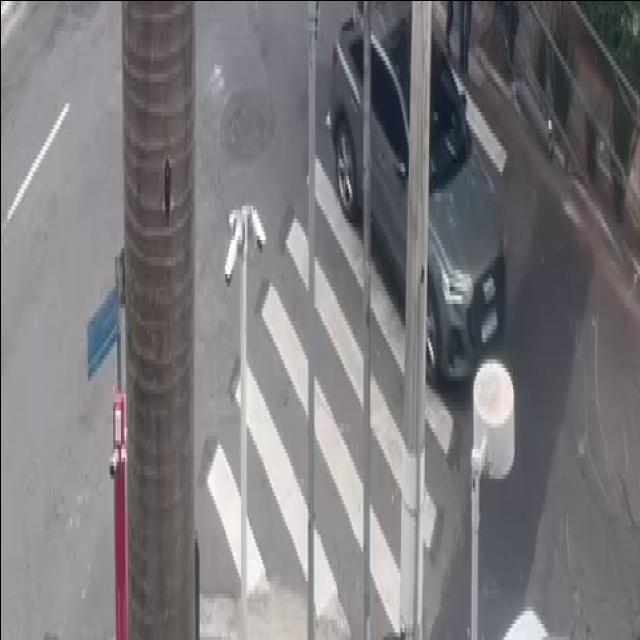car: (324, 0, 516, 381)
